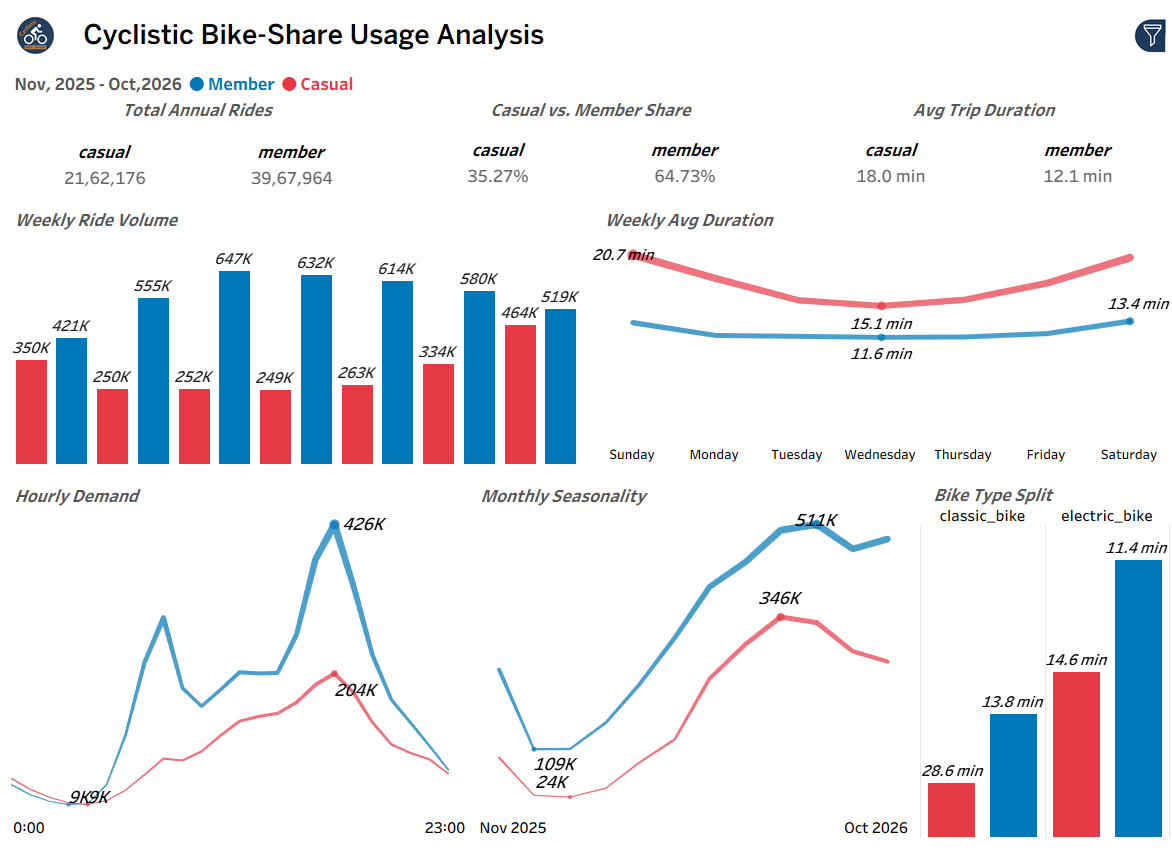

Layout of this report page (visuals, bound fields, positions):
{"tool":"tableau","page":{"name":"Dashboard 1","canvas":[1200,850],"ordinal":0},"visuals":[{"type":"image","param":"C:/Users/MOHIT RAUTELA/Downloads/Gemini_Generated_Image_bv1ba5bv1ba5bv1b.png","box":[10,10,69,54]},{"type":"text","box":[79,10,1048,54]},{"type":"dashboard-object","box":[1127,10,63,54]},{"type":"text","box":[10,64,1180,32]},{"type":"filter","title":"Weekly Ride Volume","param":"[federated.15s8w6b0aqddv31go5rhz1y5zfu8].[none:month_name:nk]","box":[966,75,230,766]},{"type":"text","box":[10,96,394,31]},{"type":"text","box":[404,96,393,31]},{"type":"text","box":[797,96,393,31]},{"type":"worksheet","title":"KPI Sheet 1","mark":"Text","cols":["member_casual"],"box":[10,127,394,73]},{"type":"worksheet","title":"KPI Sheet 2","mark":"Automatic","cols":["member_casual"],"box":[404,127,393,73]},{"type":"worksheet","title":"KPI Sheet 3","mark":"Automatic","cols":["member_casual"],"box":[797,127,393,73]},{"type":"text","box":[10,200,590,32]},{"type":"text","box":[600,200,590,33]},{"type":"worksheet","title":"Weekly Ride Volume","mark":"Bar","rows":["total_rides"],"cols":["day_name","member_casual"],"box":[10,232,590,244]},{"type":"worksheet","title":"Weekly Avg Duration","mark":"Line","rows":["Calculation_0564600624435200"],"cols":["day_name"],"box":[600,233,590,243]},{"type":"text","box":[10,476,466,32]},{"type":"text","box":[476,476,453,32]},{"type":"text","box":[929,476,261,30.6]},{"type":"worksheet","title":"Bike Type Preference & Duration","mark":"Automatic","rows":["total_rides"],"cols":["rideable_type","member_casual"],"box":[929,506.6,261,333.4]},{"type":"worksheet","title":"Hourly Commute vs. Leisure Curve","mark":"Line","rows":["total_rides"],"cols":["start_hour"],"box":[10,508,466,332]},{"type":"worksheet","title":"12-Month Seasonality","mark":"Automatic","rows":["total_rides"],"cols":["Calculation_0564600624623617"],"box":[476,508,453,332]}]}

Visuals, with their boxes in screenshot pixels (x1, y1, x2, y2), scaled from the page's 1200x850 canvas onto the 1172x851 screenshot:
image: 10,10,77,64
text: 77,10,1101,64
dashboard-object: 1101,10,1162,64
text: 10,64,1162,96
"Weekly Ride Volume" filter: 943,75,1168,842
text: 10,96,395,127
text: 395,96,778,127
text: 778,96,1162,127
"KPI Sheet 1" worksheet (Text marks): 10,127,395,200
"KPI Sheet 2" worksheet: 395,127,778,200
"KPI Sheet 3" worksheet: 778,127,1162,200
text: 10,200,586,232
text: 586,200,1162,233
"Weekly Ride Volume" worksheet (Bar marks): 10,232,586,477
"Weekly Avg Duration" worksheet (Line marks): 586,233,1162,477
text: 10,477,465,509
text: 465,477,907,509
text: 907,477,1162,507
"Bike Type Preference & Duration" worksheet: 907,507,1162,841
"Hourly Commute vs. Leisure Curve" worksheet (Line marks): 10,509,465,841
"12-Month Seasonality" worksheet: 465,509,907,841
